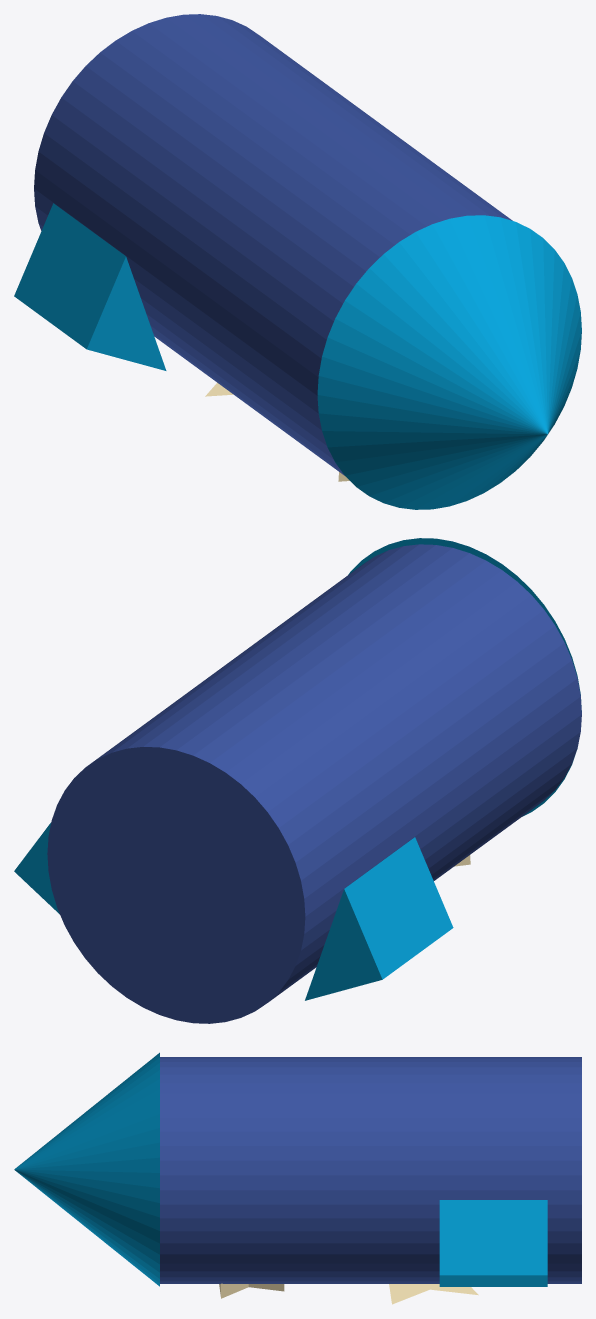
The model's file is tinker.obj.
The picture shows the model from 3 angles, top to bottom: view 1: azimuth 30°, elevation 25°; view 2: azimuth 150°, elevation 25°; view 3: azimuth 270°, elevation 25°; orthographic projection. The views are drawn at different scales.
Visible parts, largest first — view 1: obj_0, obj_1, obj_5; view 2: obj_0, obj_5, obj_1, obj_4; view 3: obj_0, obj_1, obj_4, obj_3, obj_2.
Part boxes in pixels (x1,y1,x2,y2): obj_0: (34, 14, 581, 475); obj_1: (317, 215, 581, 509); obj_5: (14, 203, 166, 370); obj_0: (47, 544, 581, 1023); obj_5: (305, 837, 453, 1000); obj_1: (348, 538, 581, 816); obj_4: (14, 822, 59, 914); obj_0: (160, 1057, 581, 1283); obj_1: (14, 1052, 159, 1286); obj_4: (439, 1200, 547, 1286); obj_3: (389, 1284, 478, 1304); obj_2: (219, 1283, 284, 1298).
Bounding box in the file's own units: 58.96 × 44 × 105.
